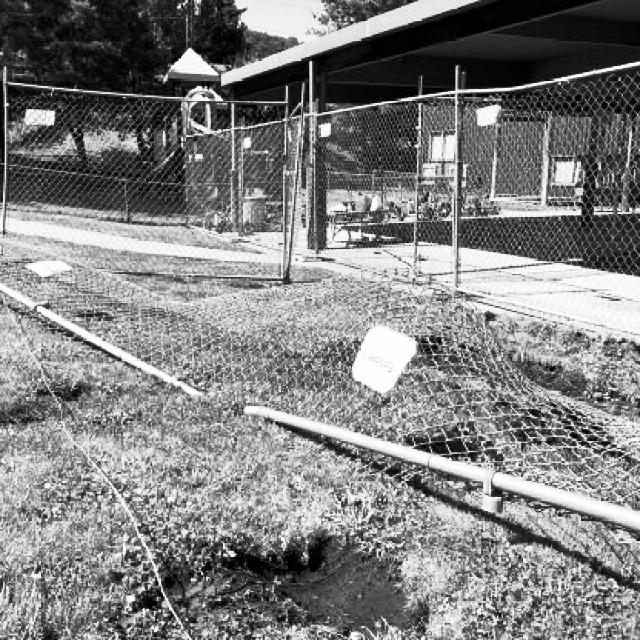anomaly-fence: (22, 234, 631, 547)
